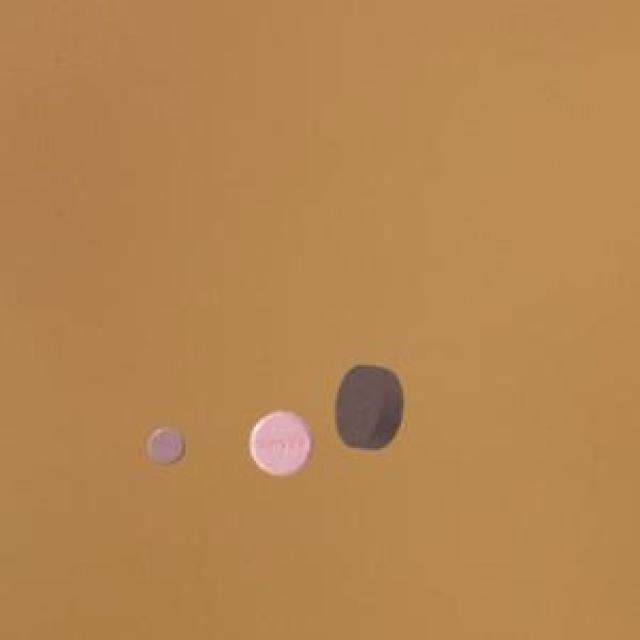Kremil_S: (328, 354, 408, 456), (242, 406, 320, 492), (138, 420, 190, 476)
